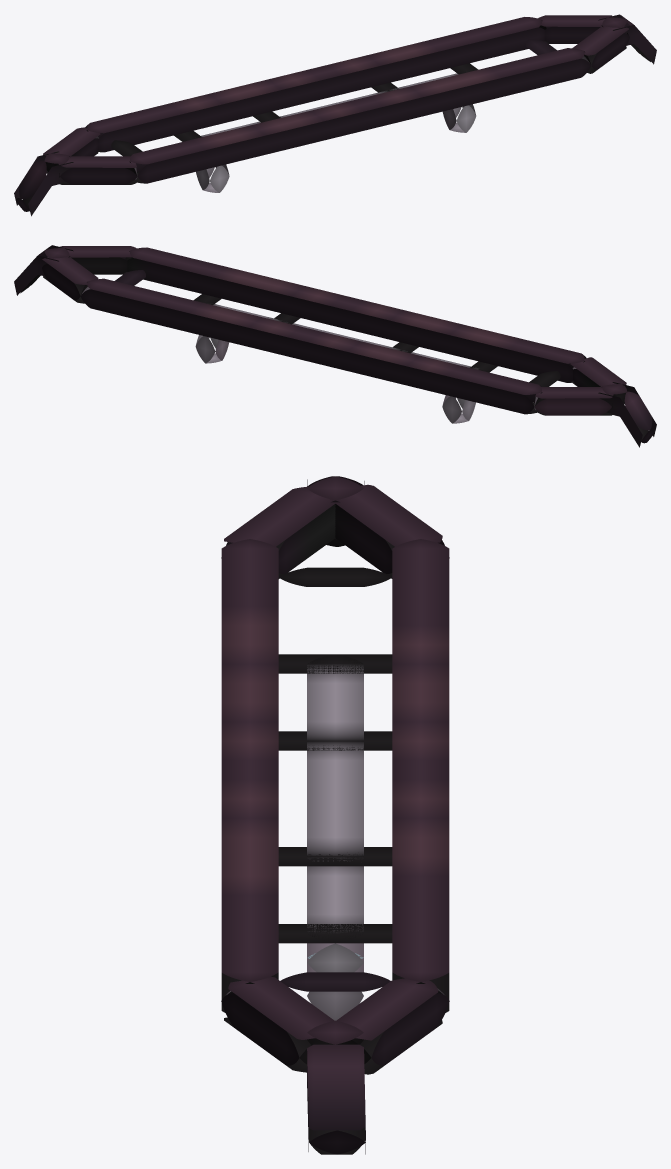
File: hxd3d_panto_bow_head.obj
3 views of the same model, one above another, from view 1: azimuth 30°, elevation 25°; view 2: azimuth 150°, elevation 25°; view 3: azimuth 270°, elevation 25° (orthographic). The views are drawn at different scales.
Parts seen in each view (by area): view 1: second_selection.001; view 2: second_selection.001; view 3: second_selection.001.
Boxes of the visible parts, x1=… form: second_selection.001: x1=14, y1=14, x2=656, y2=216; second_selection.001: x1=14, y1=245, x2=656, y2=447; second_selection.001: x1=221, y1=476, x2=449, y2=1154.
Size of the model in its own units: 1.99 by 0.2031 by 0.3133.
